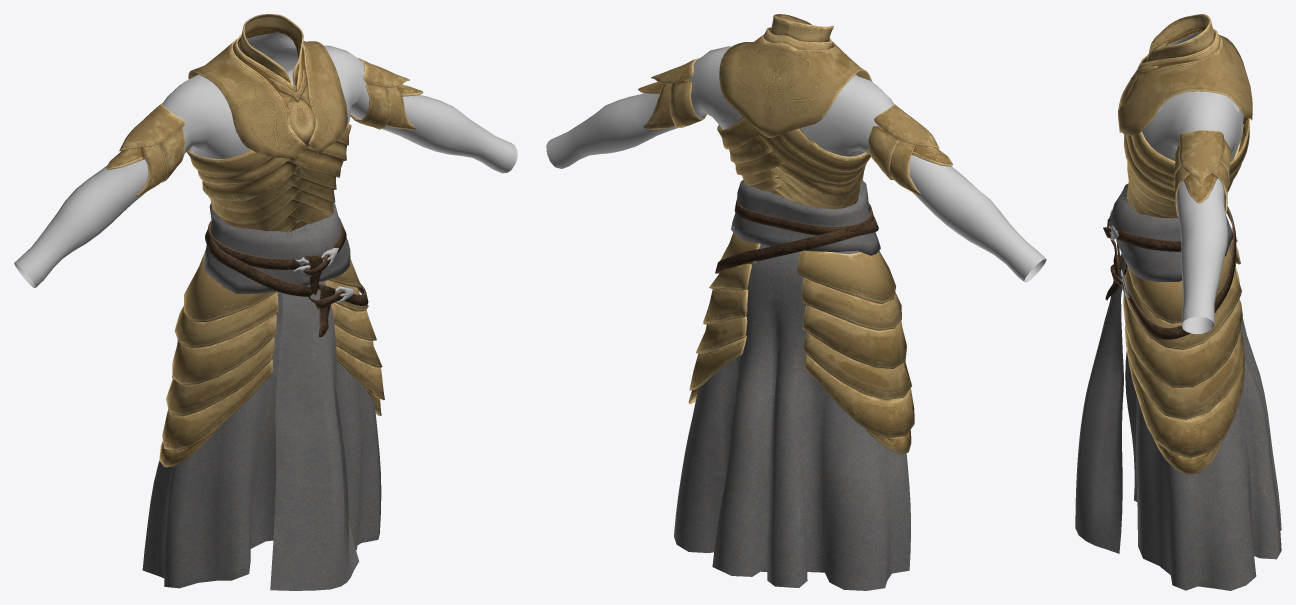
The model's file is rivendell_torso_lord3.fbx.
The picture shows the model from 3 angles, left to right: view 1: azimuth 30°, elevation 25°; view 2: azimuth 150°, elevation 25°; view 3: azimuth 270°, elevation 25°; orthographic projection. The views are drawn at different scales.
Parts seen in each view (by area): view 1: rivendell_torso_lord3.4, rivendell_torso_lord3.1, rivendell_torso_lord3.5, rivendell_torso_lord3.3, rivendell_torso_lord3.6, rivendell_torso_lord3.2, rivendell_torso_lord3.0; view 2: rivendell_torso_lord3.1, rivendell_torso_lord3.3, rivendell_torso_lord3.5, rivendell_torso_lord3.6, rivendell_torso_lord3.4, rivendell_torso_lord3.2, rivendell_torso_lord3.0; view 3: rivendell_torso_lord3.1, rivendell_torso_lord3.3, rivendell_torso_lord3.4, rivendell_torso_lord3.5, rivendell_torso_lord3.6, rivendell_torso_lord3.2, rivendell_torso_lord3.0.
Boxes of the visible parts, box(x1,y1,x2,y2) form: rivendell_torso_lord3.4: box(204, 202, 368, 590); rivendell_torso_lord3.1: box(142, 291, 381, 588); rivendell_torso_lord3.5: box(14, 32, 517, 287); rivendell_torso_lord3.3: box(159, 250, 384, 467); rivendell_torso_lord3.6: box(188, 14, 347, 161); rivendell_torso_lord3.2: box(187, 123, 351, 232); rivendell_torso_lord3.0: box(106, 58, 423, 197); rivendell_torso_lord3.1: box(674, 244, 910, 590); rivendell_torso_lord3.3: box(688, 233, 914, 454); rivendell_torso_lord3.5: box(546, 46, 1046, 282); rivendell_torso_lord3.6: box(719, 14, 872, 137); rivendell_torso_lord3.4: box(715, 180, 880, 273); rivendell_torso_lord3.2: box(717, 117, 870, 227); rivendell_torso_lord3.0: box(638, 58, 952, 195); rivendell_torso_lord3.1: box(1125, 244, 1281, 590); rivendell_torso_lord3.3: box(1123, 226, 1244, 474); rivendell_torso_lord3.4: box(1075, 183, 1236, 553); rivendell_torso_lord3.5: box(1142, 32, 1243, 333); rivendell_torso_lord3.6: box(1118, 14, 1252, 135); rivendell_torso_lord3.2: box(1124, 116, 1249, 218); rivendell_torso_lord3.0: box(1172, 130, 1231, 218).
Size of the model in its own units: 1.38 by 0.5129 by 1.44.
